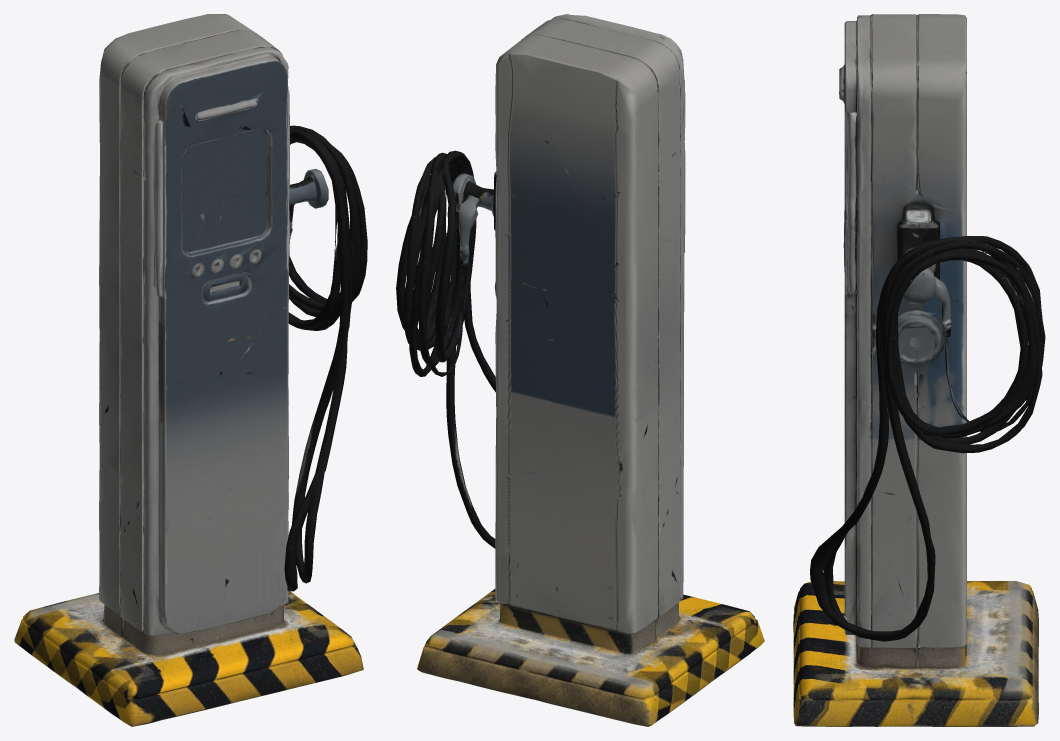
Rendered from borne.glb.
The picture shows the model from 3 angles, left to right: view 1: azimuth 30°, elevation 25°; view 2: azimuth 150°, elevation 25°; view 3: azimuth 270°, elevation 25°; orthographic projection. The views are drawn at different scales.
Bounding box in the file's own units: 0.9184 × 1.9 × 0.688.
1 material, 1 textured.
